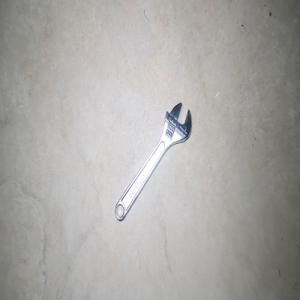Wrench: (114, 102, 191, 221)
